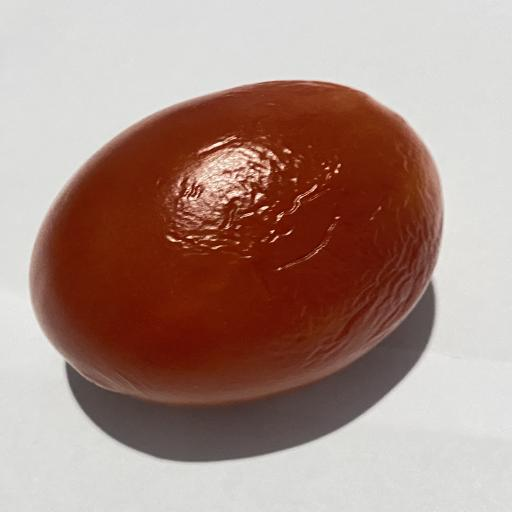overipe: (30, 81, 443, 405)
spoiled: (32, 81, 442, 405)
